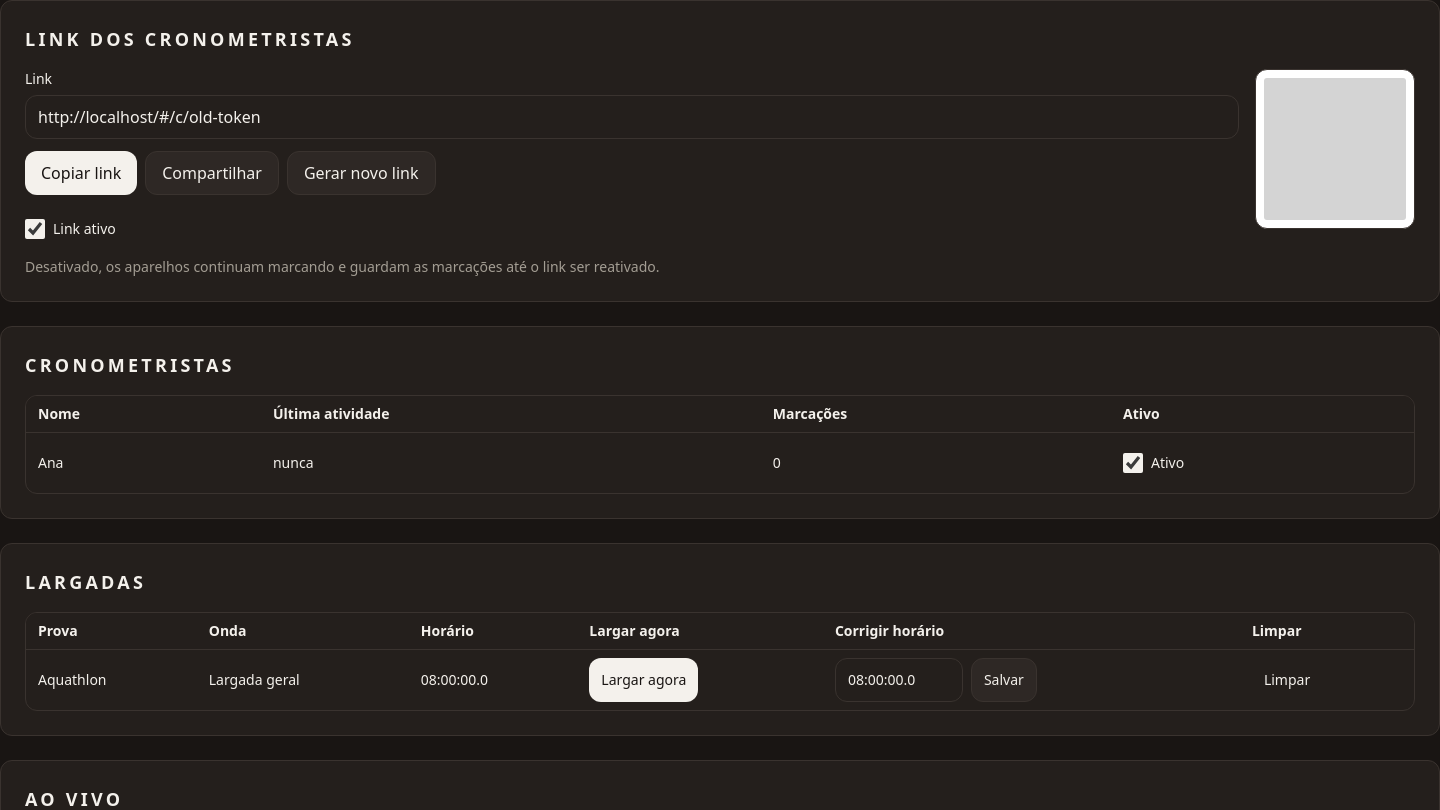
Scenario: link dos cronometristas › the rotation confirm tells the truth: phones with the old link keep marking but only send after opening the new one (B2-I4a)
The width and height of the screenshot is (1440, 810).
Click the button "Gerar novo link" at coordinates (361, 173), box [287,151,436,195]
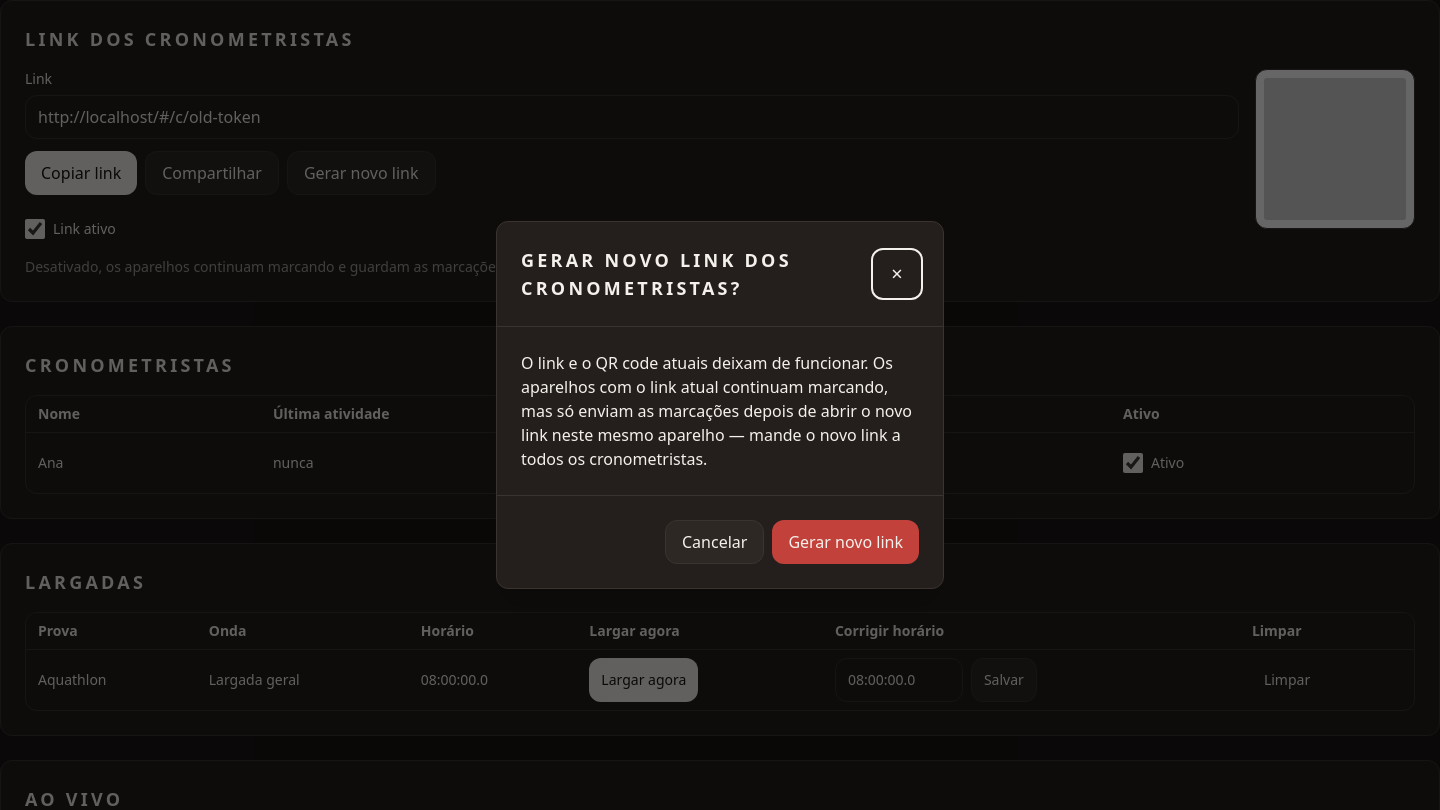
Expected: the dialog does not show "continuam ativos", [496,221,944,589]
Expected: the dialog shows "Os aparelhos com o link atual continuam marcando, mas só enviam as marcações depois de abrir o novo link", [521,352,912,470]
